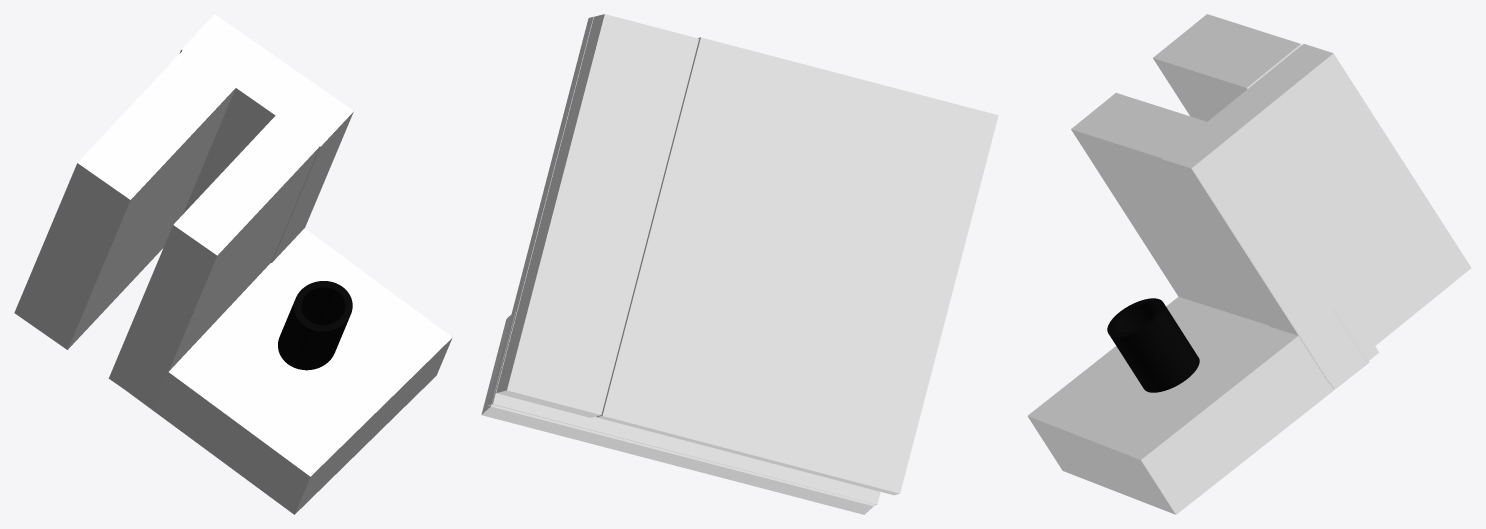
File: brownmodel.fbx
3 views of the same model, side by side, from view 1: azimuth 30°, elevation 25°; view 2: azimuth 150°, elevation 25°; view 3: azimuth 270°, elevation 25° (orthographic). The views are drawn at different scales.
Visible parts, largest first — view 1: node_id14, node_id8, node_id5, node_id11, node_id17; view 2: node_id8, node_id11, node_id5, node_id14; view 3: node_id11, node_id14, node_id5, node_id8, node_id17.
Boxes of the visible parts, x1=… form: node_id14: x1=131, y1=228, x2=452, y2=514; node_id8: x1=14, y1=50, x2=235, y2=349; node_id5: x1=108, y1=80, x2=353, y2=408; node_id11: x1=179, y1=14, x2=353, y2=262; node_id17: x1=278, y1=281, x2=352, y2=370; node_id8: x1=596, y1=37, x2=998, y2=495; node_id11: x1=496, y1=14, x2=698, y2=417; node_id5: x1=488, y1=16, x2=880, y2=505; node_id14: x1=481, y1=310, x2=874, y2=514; node_id11: x1=1162, y1=44, x2=1471, y2=383; node_id14: x1=1027, y1=296, x2=1369, y2=514; node_id5: x1=1071, y1=93, x2=1378, y2=388; node_id8: x1=1153, y1=14, x2=1301, y2=121; node_id17: x1=1107, y1=298, x2=1199, y2=392.
Bounding box in the file's own units: 0.4621 × 0.512 × 0.4677.
5 materials, 1 textured.
